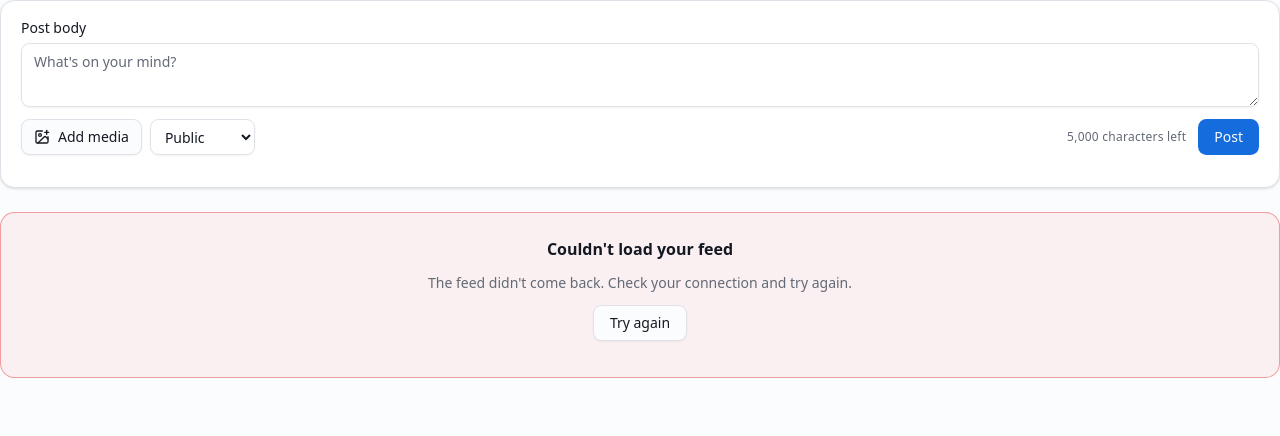
Test: HomeFeed › shows an error whose retry recovers the feed
expect the message is shown: met, box [0, 212, 1279, 378]
expect the heading "Couldn't load your feed" is shown: met, box [547, 238, 733, 260]
Click the button "Try again". click: (640,323)
box: [593, 305, 687, 341]
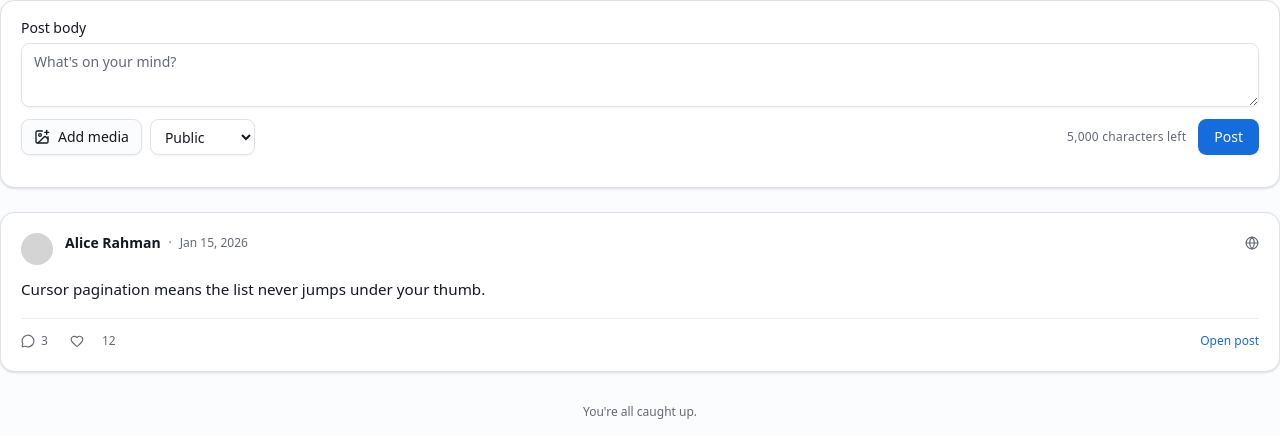
expect the text "Cursor pagination means the list never jumps under your thumb." is shown: met, box [21, 279, 485, 299]
